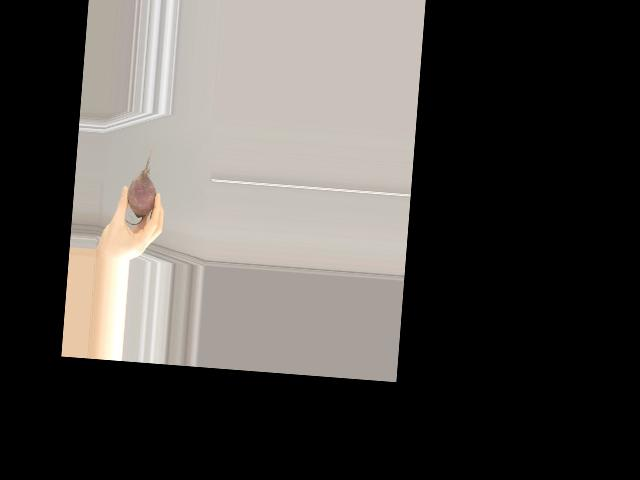beet: (124, 136, 159, 225)
